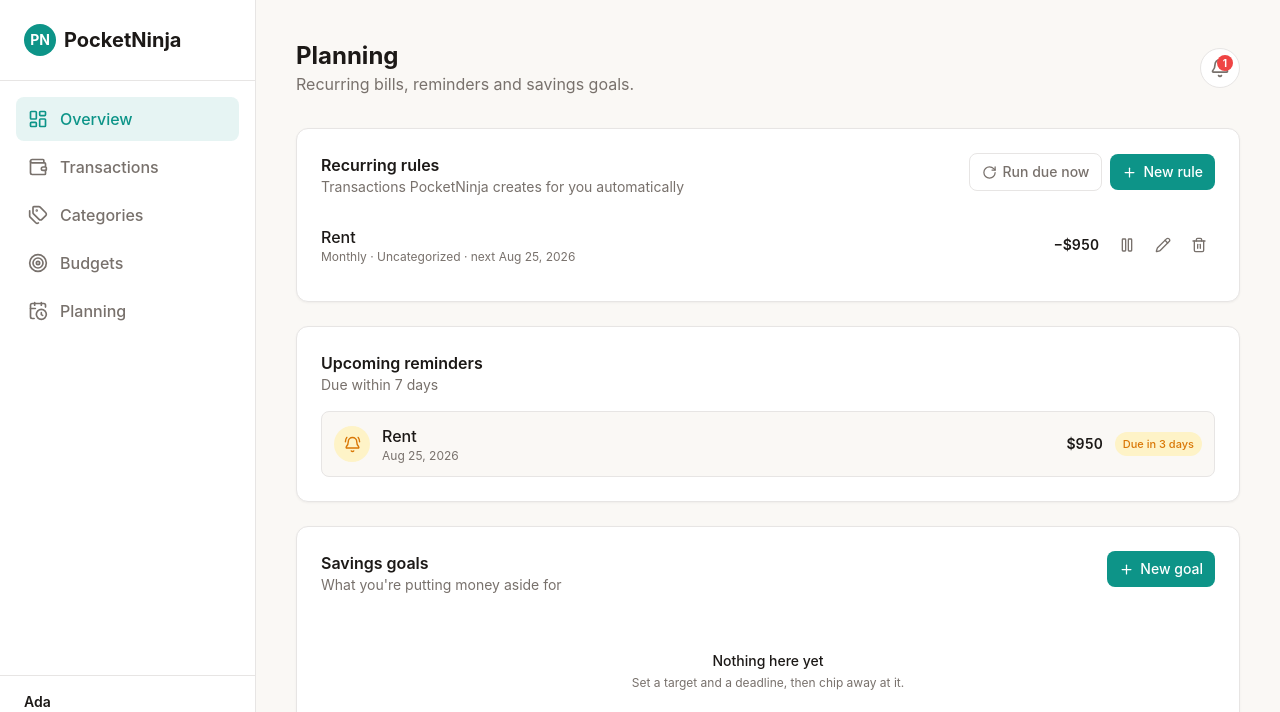
Test: PlanningPage › Run due now reports how many transactions were created
The image size is (1280, 712).
Click the button "Run due now": (1035, 172) [968,153,1102,191]
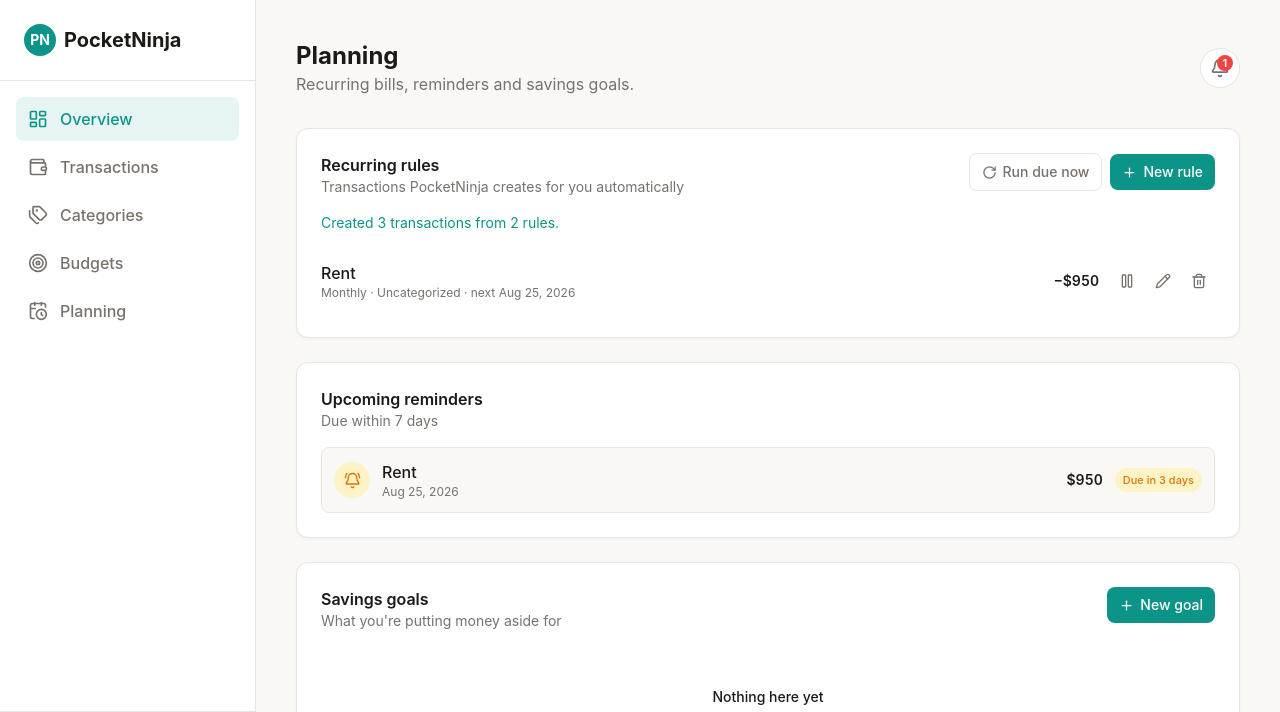
Now the text "Created 3 transactions from 2 rules." is shown, box [321,214,559,231]
